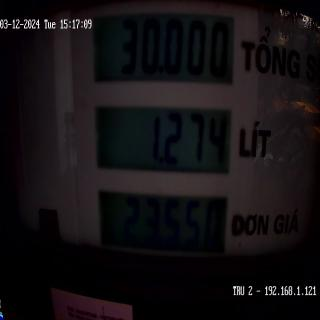screen: (90, 3, 240, 274)
